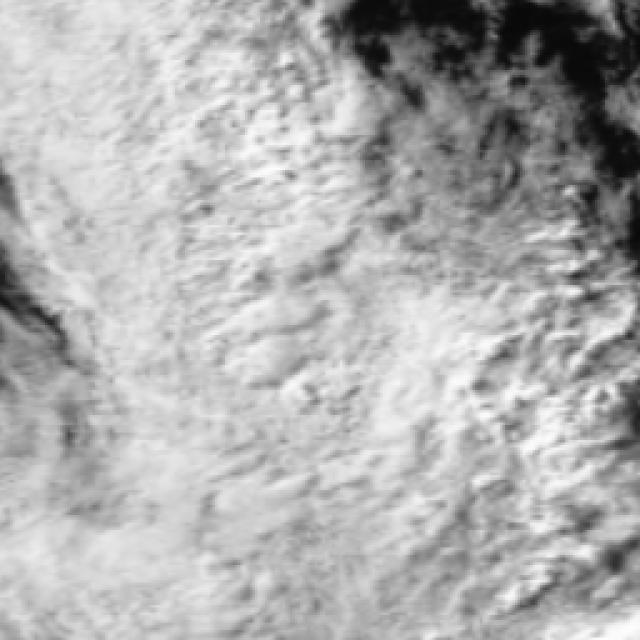CB: (0, 0, 219, 147), (10, 525, 212, 640)
